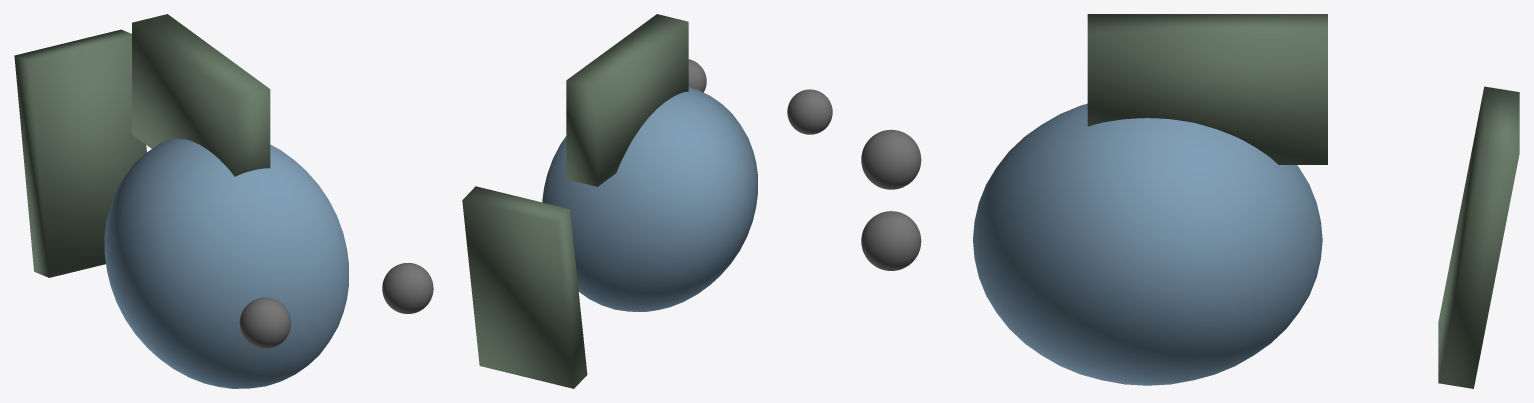
File: fish_trout.glb
3 renders of one model, left to right at view 1: azimuth 30°, elevation 25°; view 2: azimuth 150°, elevation 25°; view 3: azimuth 270°, elevation 25°, orthographic. The views are drawn at different scales.
Visible parts, largest first — view 1: body, tail, dorsal, eye-1, eye1; view 2: body, tail, dorsal, eye-1, eye1; view 3: body, dorsal, tail, eye-1, eye1.
Part boxes in pixels (left/top/right/bottom): body: left=104, top=138, right=348, bottom=388; tail: left=14, top=29, right=146, bottom=277; dorsal: left=132, top=14, right=270, bottom=176; eye-1: left=239, top=297, right=290, bottom=348; eye1: left=382, top=263, right=433, bottom=313; body: left=542, top=87, right=757, bottom=311; tail: left=462, top=186, right=587, bottom=388; dorsal: left=566, top=14, right=688, bottom=186; eye-1: left=787, top=89, right=832, bottom=134; eye1: left=688, top=59, right=706, bottom=92; body: left=973, top=103, right=1322, bottom=385; dorsal: left=1087, top=14, right=1327, bottom=164; tail: left=1438, top=86, right=1519, bottom=388; eye-1: left=861, top=129, right=921, bottom=189; eye1: left=861, top=211, right=921, bottom=270.
Bounding box in the file's own units: 0.2184 × 0.3221 × 0.5481.
